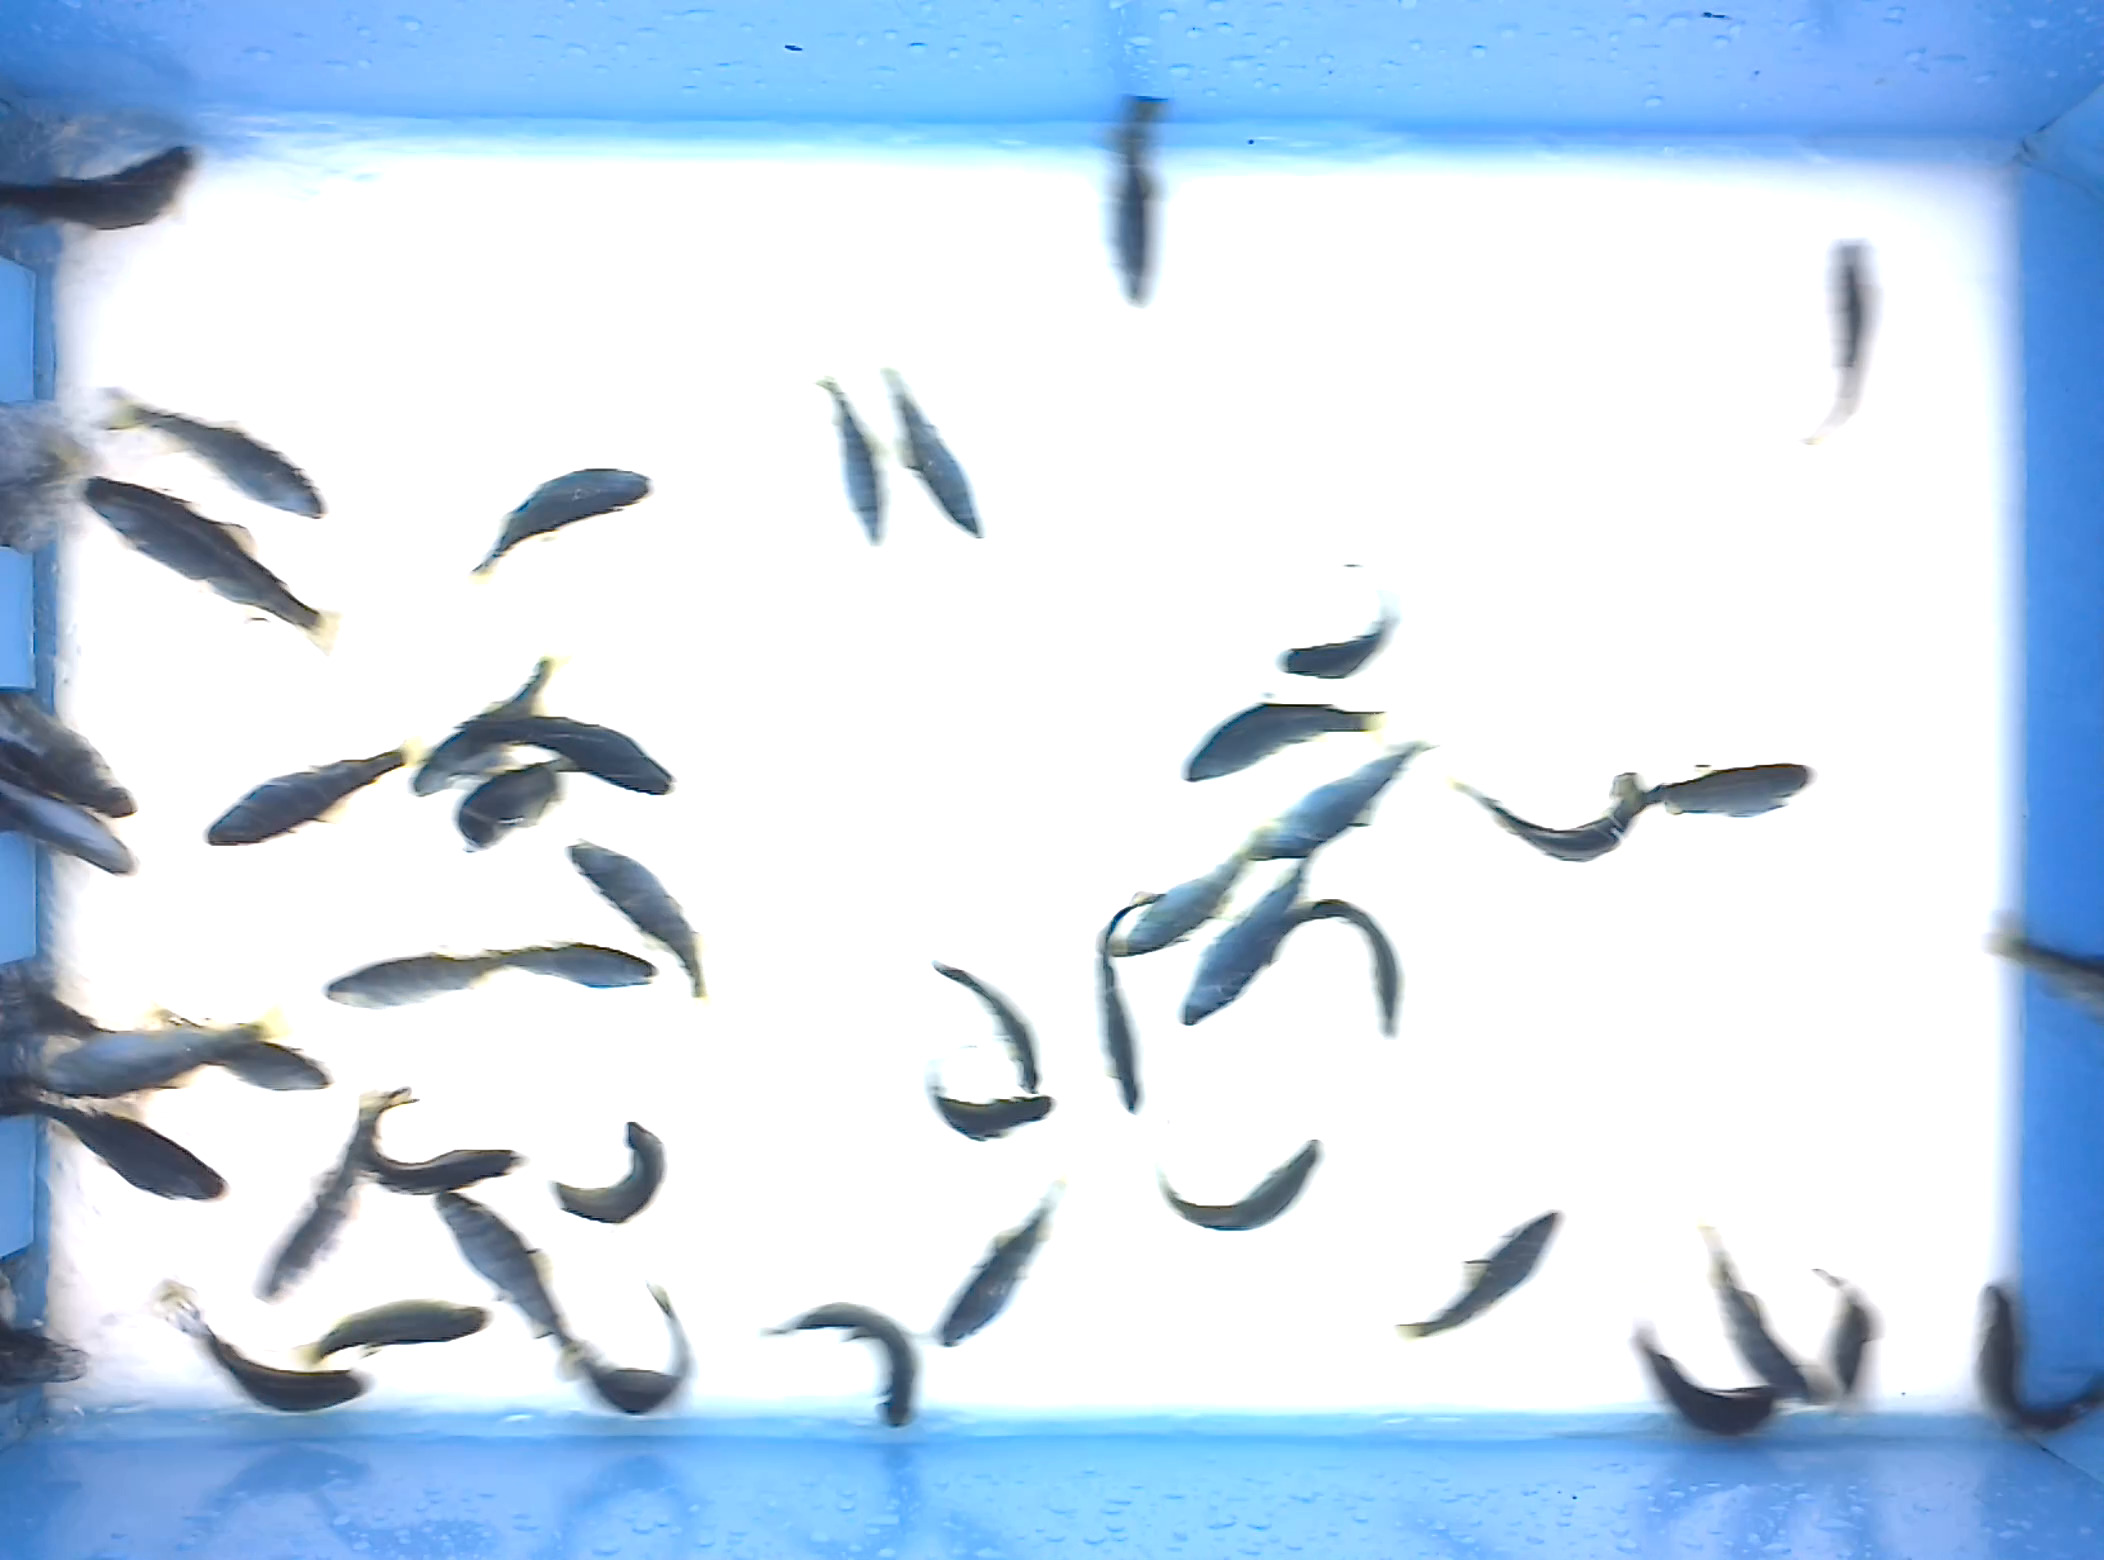fish: (62, 472, 346, 651), (256, 1082, 413, 1309), (85, 383, 334, 524), (146, 1278, 375, 1414), (431, 1190, 588, 1372), (1696, 1221, 1840, 1413), (1175, 842, 1321, 1027), (198, 736, 423, 852), (1390, 1206, 1571, 1349), (10, 1090, 229, 1204), (1244, 736, 1435, 864), (559, 836, 708, 1000), (465, 464, 659, 588), (931, 1177, 1067, 1350), (1108, 823, 1276, 960), (759, 1299, 927, 1432), (406, 654, 554, 805), (1080, 888, 1167, 1119), (452, 713, 677, 801), (36, 1016, 274, 1100), (875, 367, 988, 542), (1794, 233, 1881, 460), (1449, 770, 1655, 865), (1178, 693, 1393, 783), (1276, 895, 1404, 1044), (1626, 1319, 1778, 1442), (1154, 1137, 1326, 1236), (1096, 90, 1173, 310), (1273, 559, 1406, 682), (151, 1003, 334, 1091), (451, 742, 588, 859), (290, 1298, 493, 1375), (927, 959, 1044, 1093), (587, 1275, 693, 1419), (352, 1118, 533, 1199), (923, 1042, 1059, 1144), (814, 374, 891, 552), (547, 1118, 670, 1227), (320, 942, 511, 1009), (1807, 1258, 1884, 1416), (470, 942, 664, 991)
